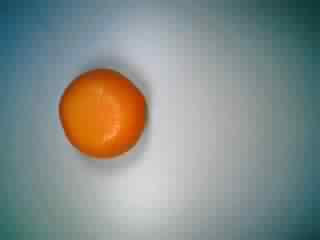orange: (54, 67, 149, 161)
